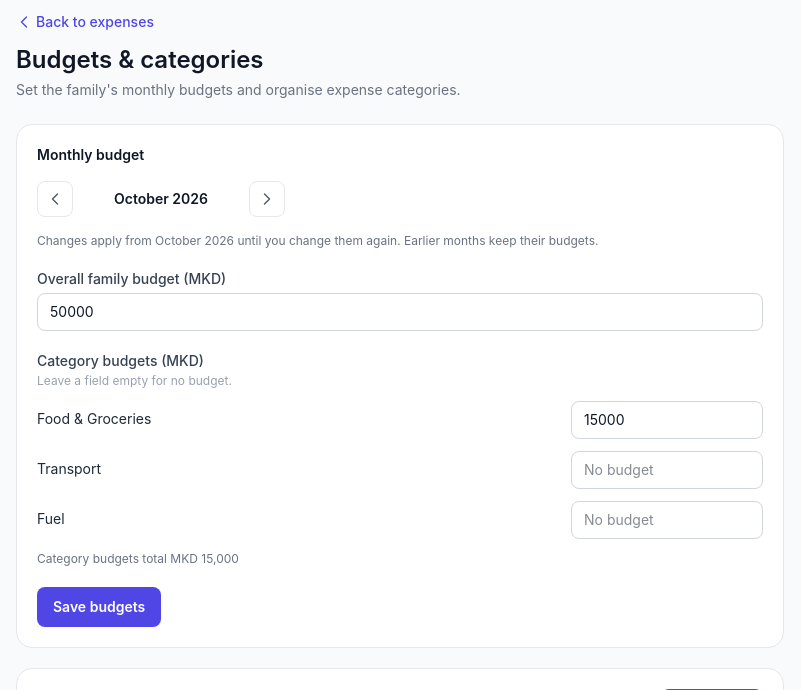
Test case: Expense settings: budgets › rejects the budget 0 without saving
This screenshot has width=801, height=690.
Replace the text in the field labelled "Overall family budget (MKD)" with "0" at (400, 312), box [37, 293, 763, 331]
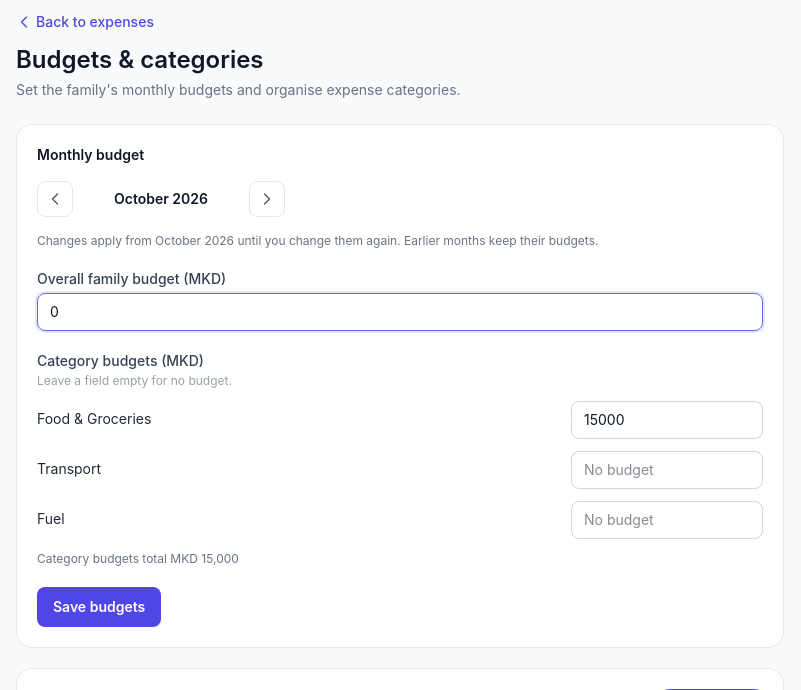
Click the button "Save budgets" at (99, 607), box [37, 587, 161, 627]
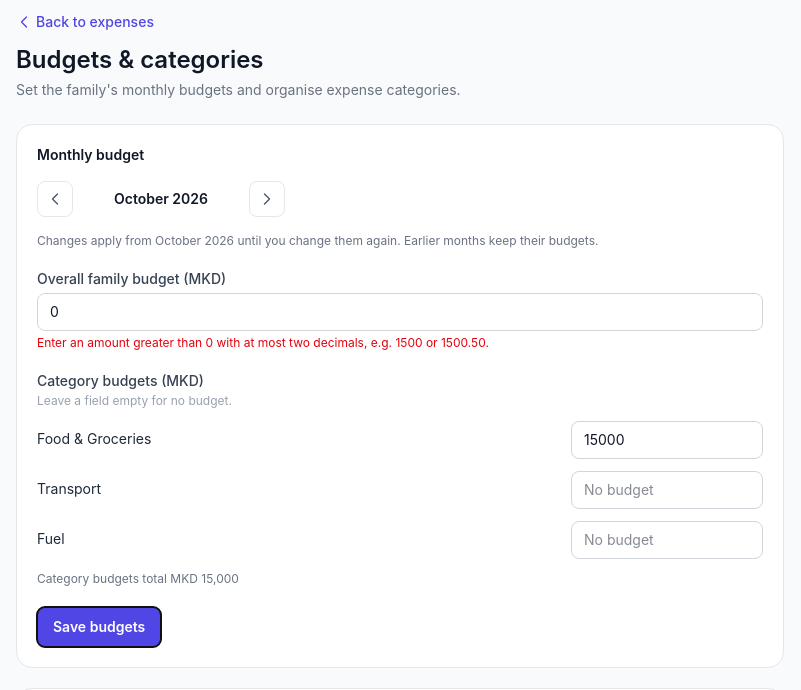
Expected: the text "Enter an amount greater than 0 with at most two decimals, e.g. 1500 or 1500.50." is shown, [37, 335, 489, 350]
